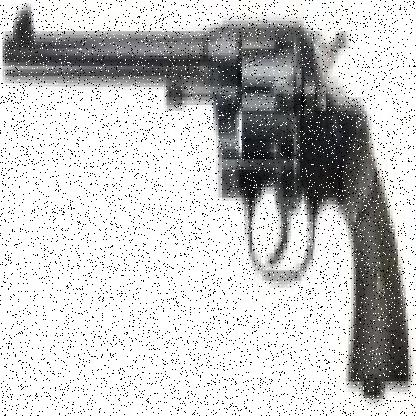pistol: (3, 7, 411, 388)
